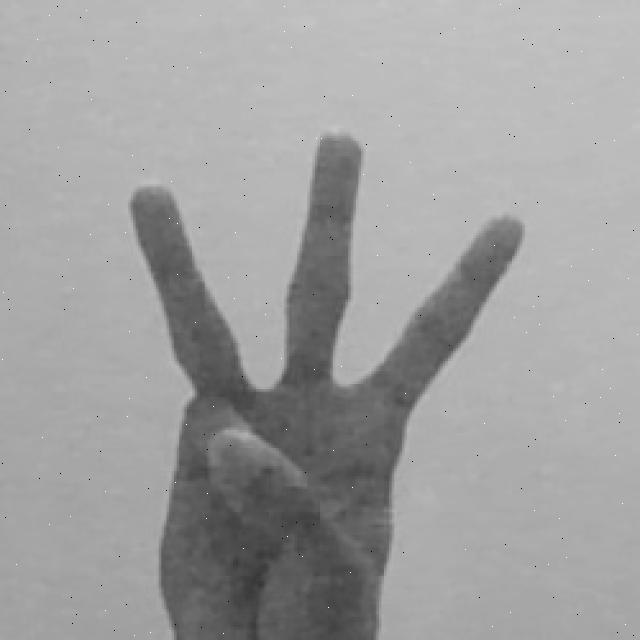W: (119, 122, 529, 640)
